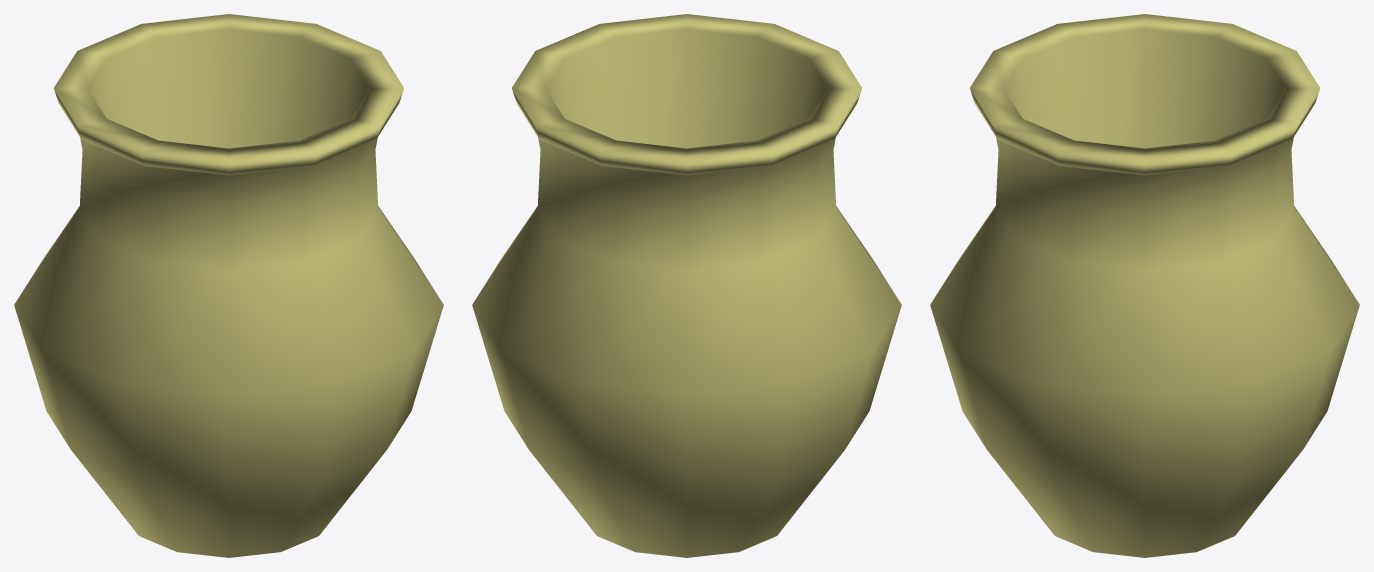
The model's file is Mod_Vase_LO_V3_JT.fbx.
The picture shows the model from 3 angles, left to right: view 1: azimuth 30°, elevation 25°; view 2: azimuth 150°, elevation 25°; view 3: azimuth 270°, elevation 25°; orthographic projection.
Parts seen in each view (by area): view 1: Vase_LO_V3; view 2: Vase_LO_V3; view 3: Vase_LO_V3.
Part boxes in pixels (bbox=[...]): Vase_LO_V3: bbox=[14, 14, 443, 557]; Vase_LO_V3: bbox=[472, 14, 901, 557]; Vase_LO_V3: bbox=[930, 14, 1359, 557].
Size of the model in its own units: 29.89 by 32.68 by 29.89.
